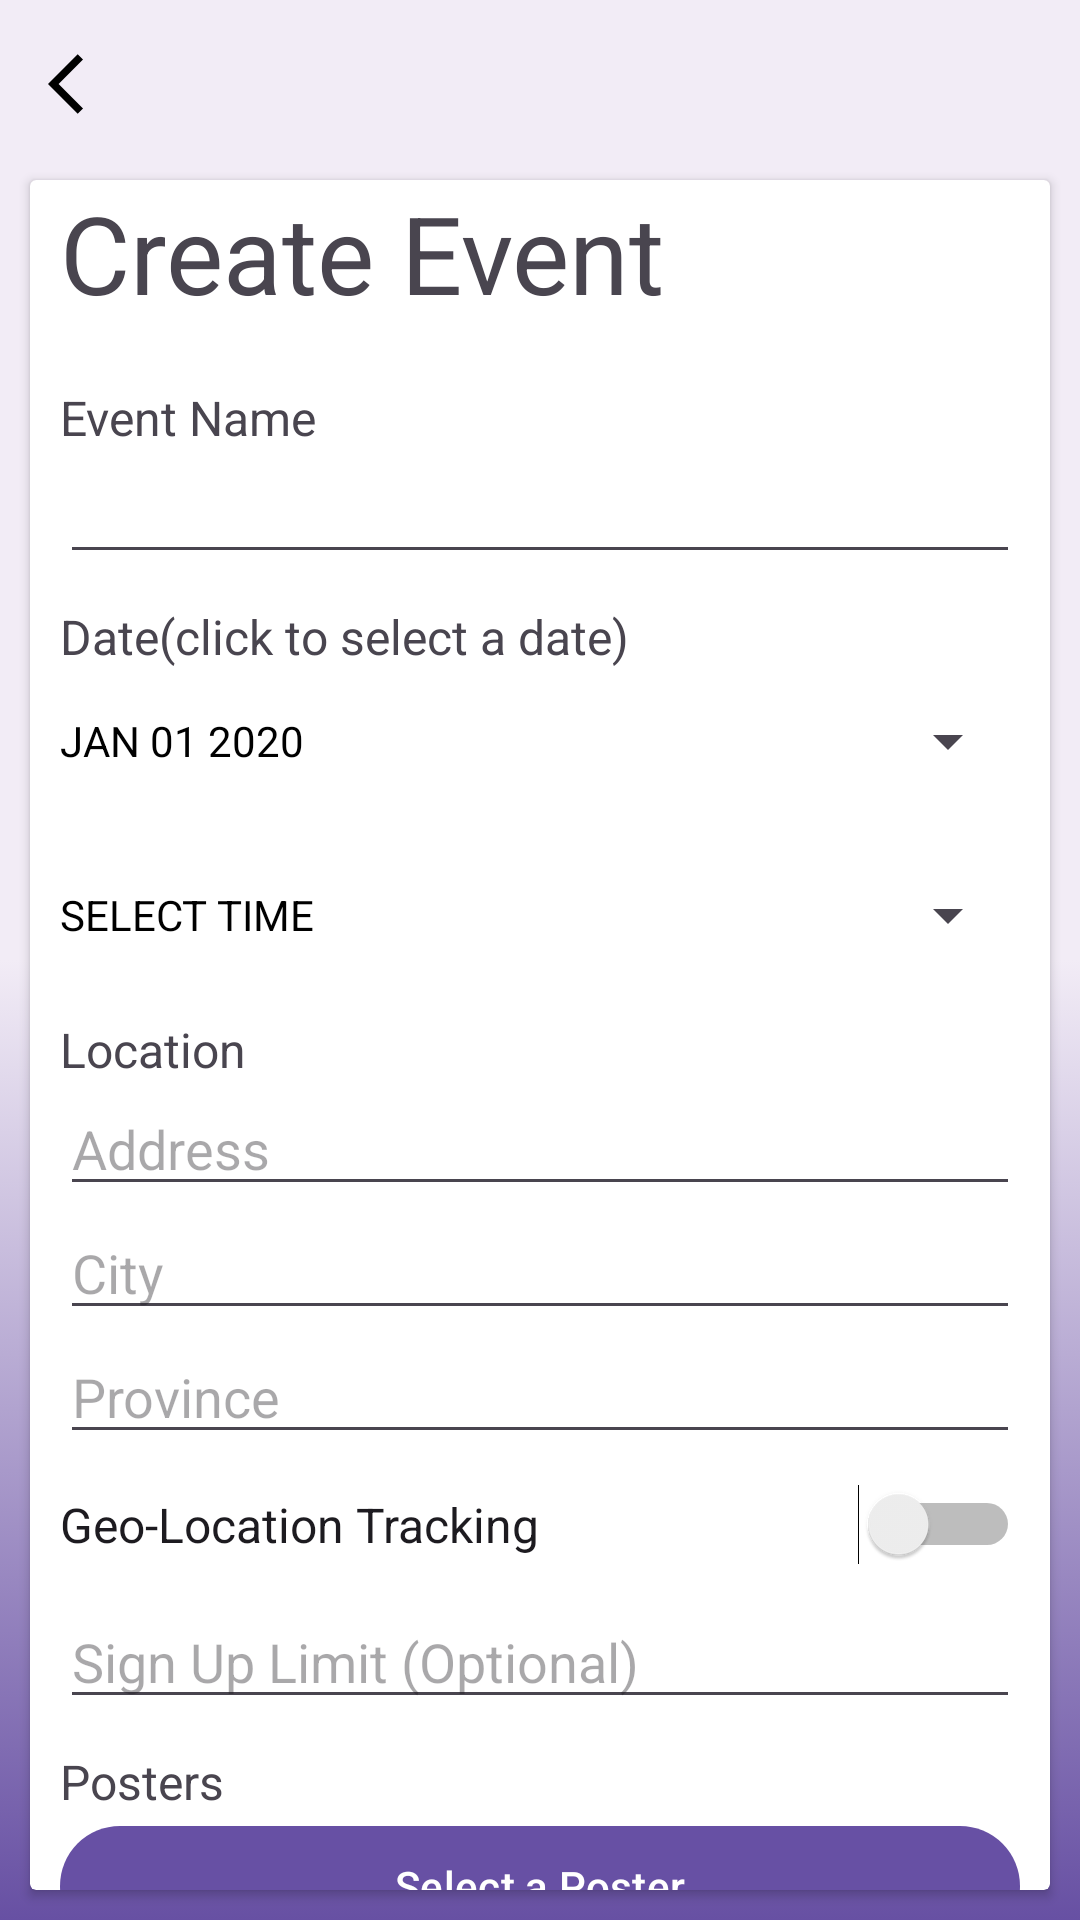

Icons on this 1080x1920 Android screen, each with the point to tap as point (x, y):
back arrow: point (65, 84)
